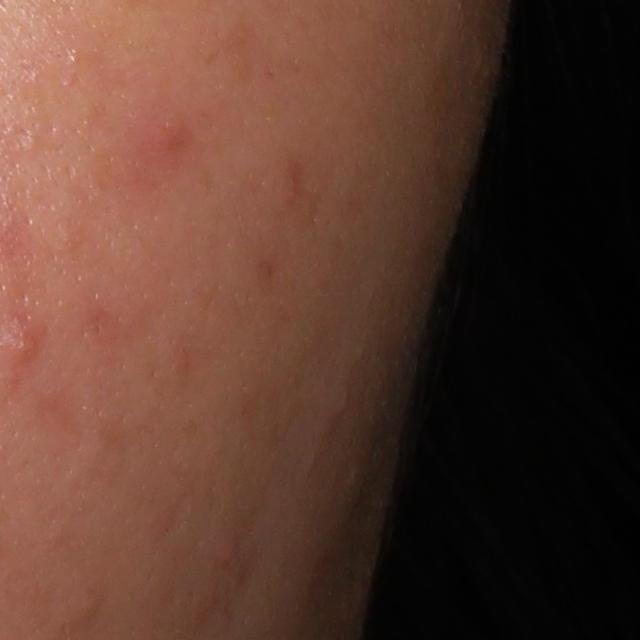papule: (4, 316, 38, 362), (211, 531, 244, 570)
